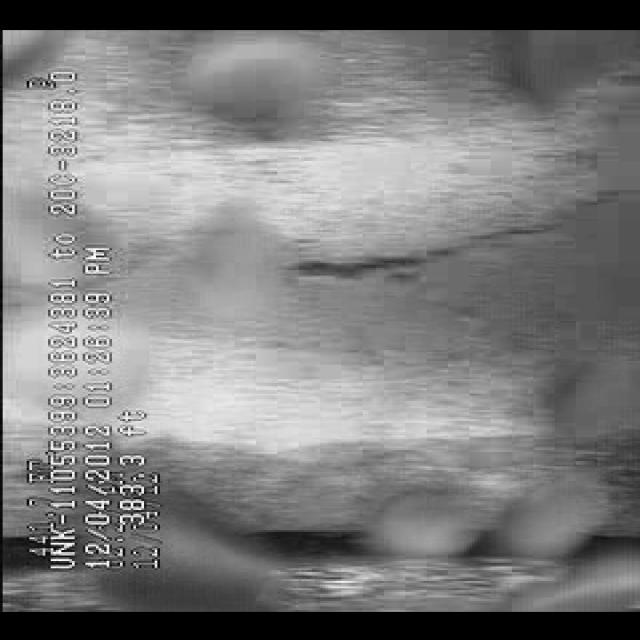Crack: (280, 196, 566, 295)
